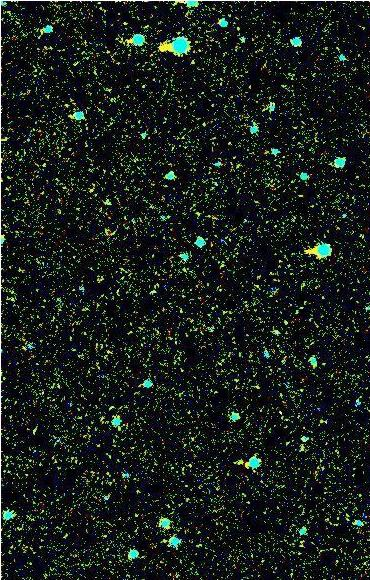star: (222, 447, 252, 477)
